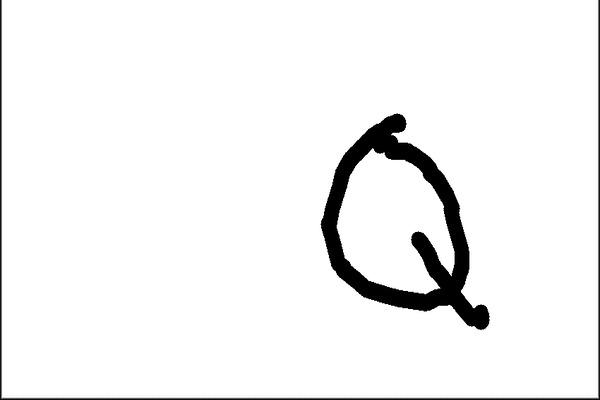Q: (312, 105, 502, 346)
